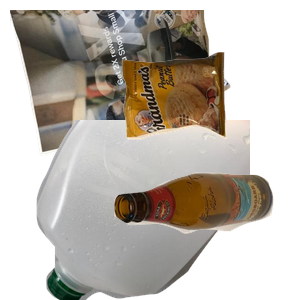glass: (111, 170, 300, 300)
paper: (10, 10, 233, 158)
plastic: (34, 120, 274, 300)
trash: (120, 50, 300, 182)
